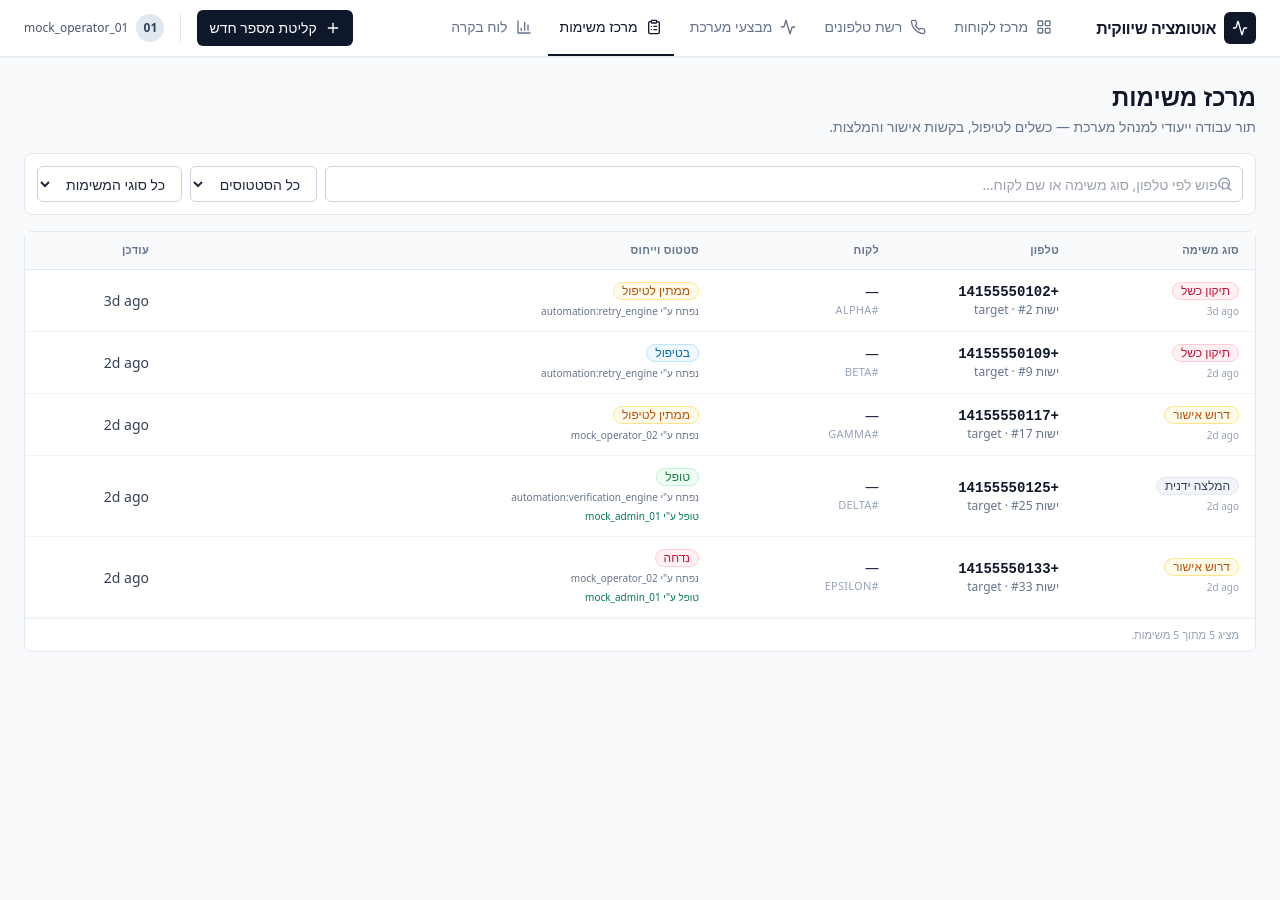
Test: Operations Queue — drawer + resolve flow › blocks resolve submit with empty note (inline validation)
Click the text "+14155550102".
click(1009, 292)  # box [958, 284, 1059, 300]
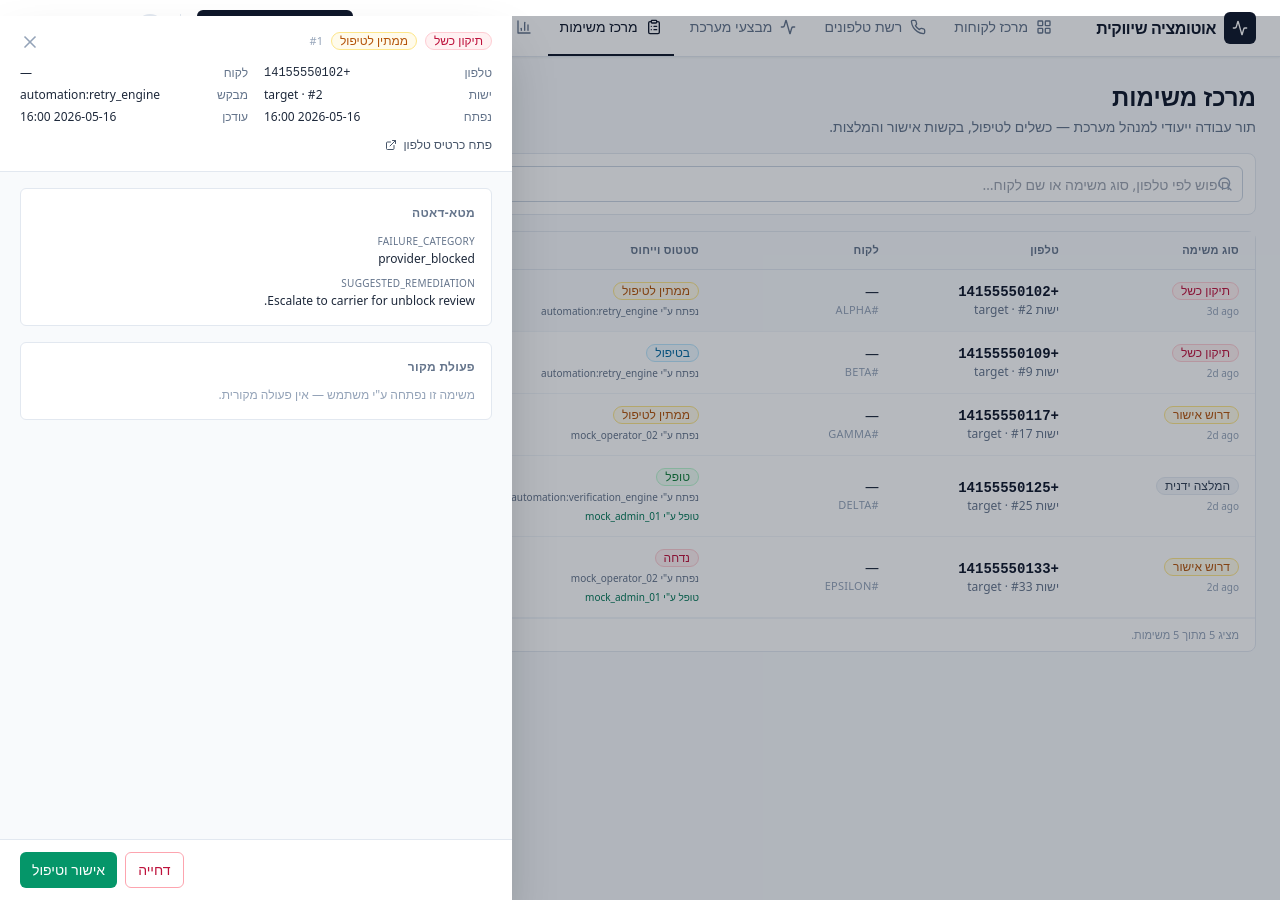
Click the button "אישור וטיפול".
click(69, 870)  # box [20, 852, 117, 888]
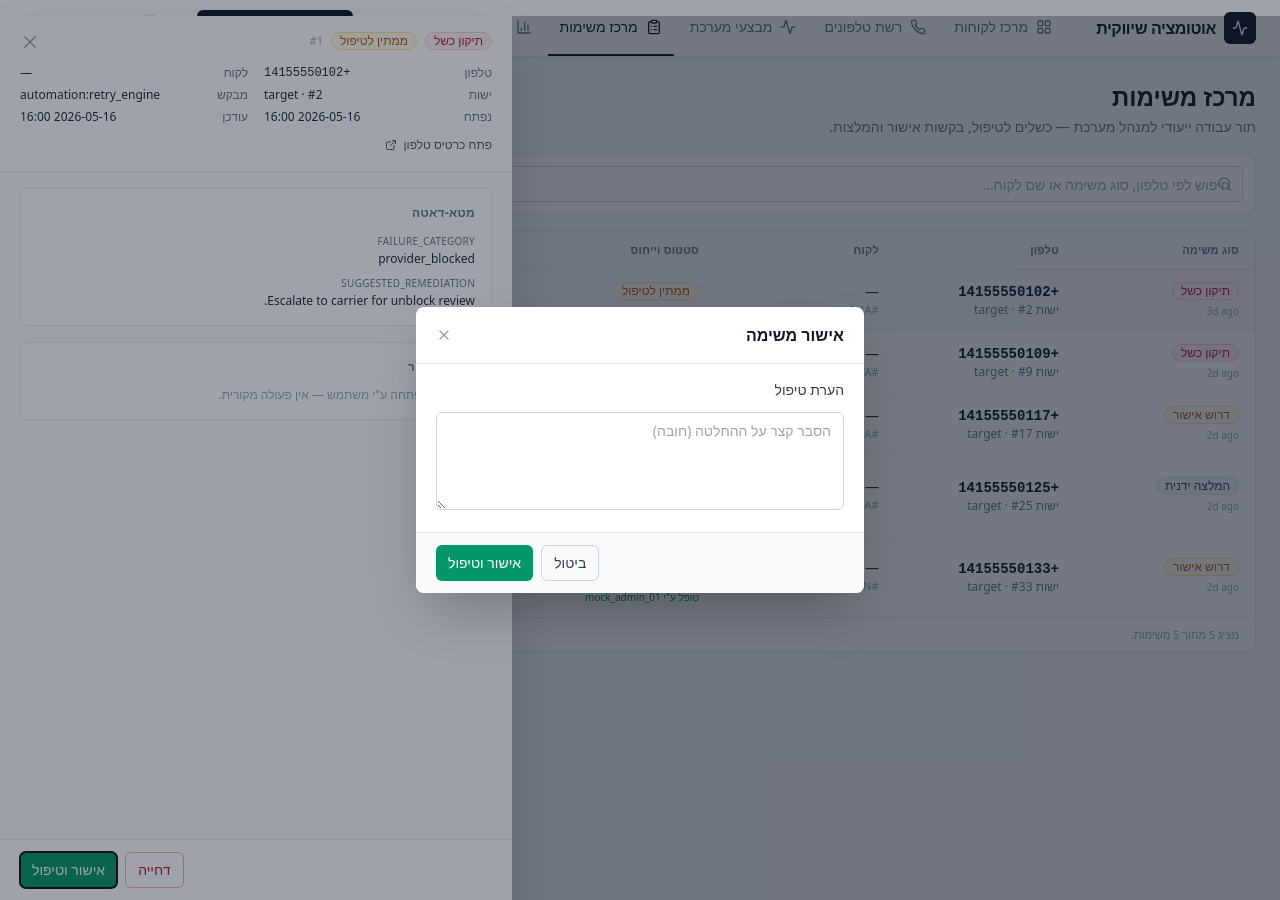
Click the button "אישור וטיפול".
click(485, 563)  # box [436, 545, 533, 581]
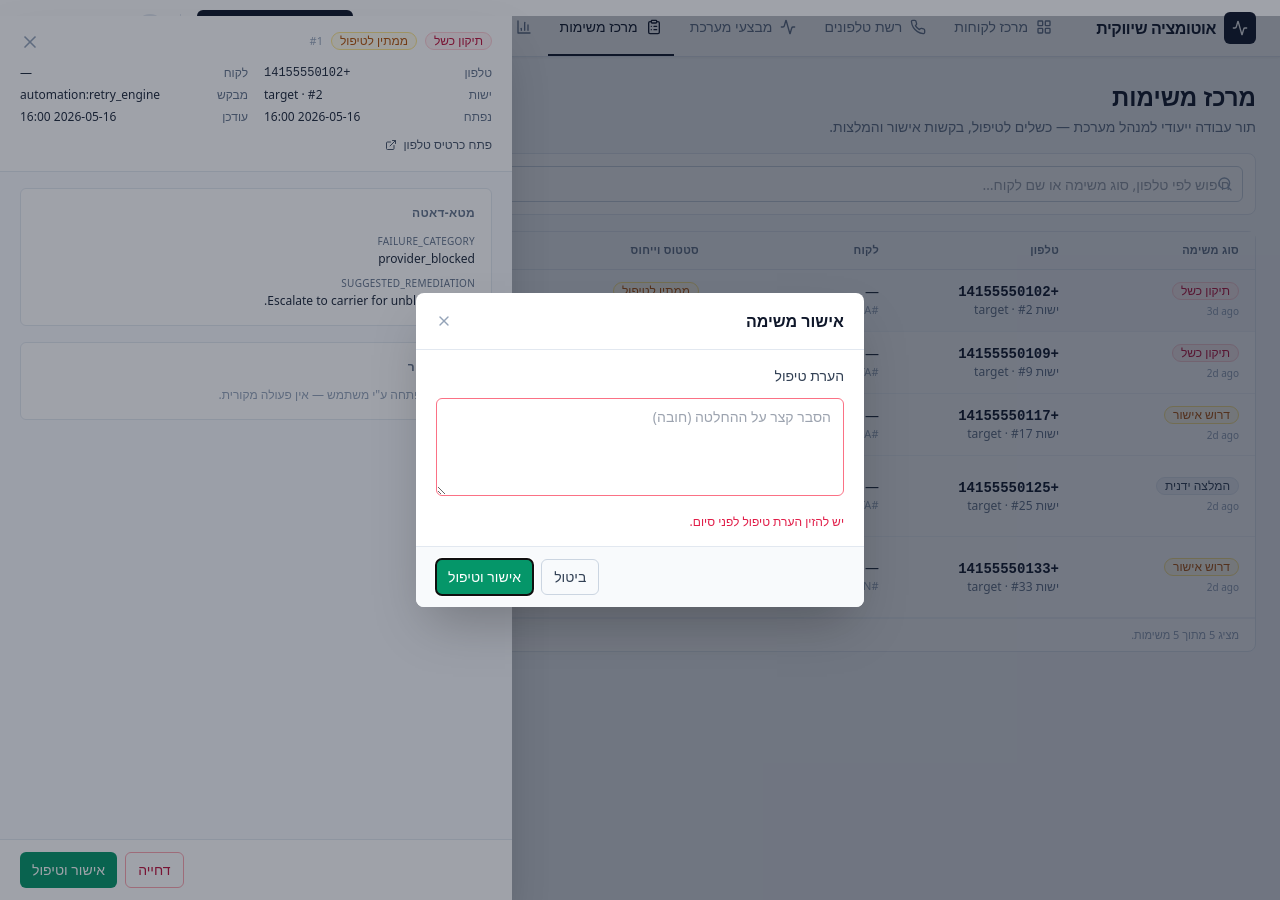
Check: the text box with placeholder "הסבר קצר על ההחלטה (חובה)" is shown, box [436, 398, 844, 496]
Check: the text "יש להזין הערת טיפול לפני סיום." is shown, box [690, 513, 844, 530]
